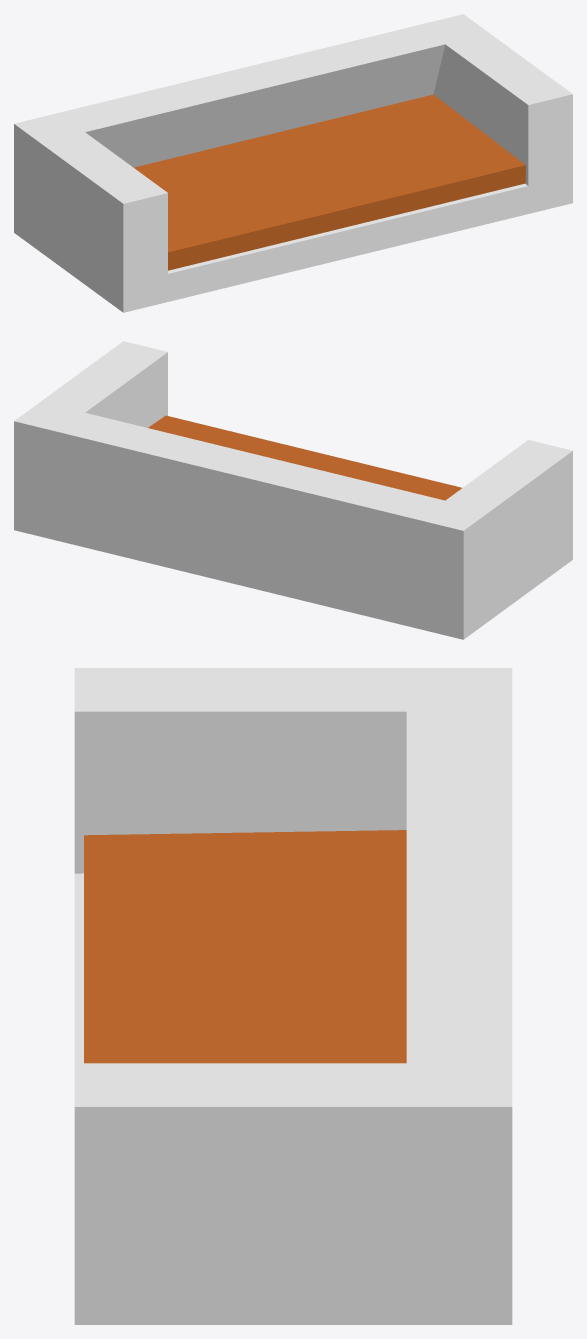
3 views of the same model, one above another, from view 1: azimuth 30°, elevation 25°; view 2: azimuth 150°, elevation 25°; view 3: azimuth 270°, elevation 25° (orthographic). The views are drawn at different scales.
Visible parts, largest first — view 1: BarCouch.016; view 2: BarCouch.016; view 3: BarCouch.016.
Boxes of the visible parts, x1,y1,x2,y2 form: BarCouch.016: (14, 14, 572, 312); BarCouch.016: (14, 341, 572, 639); BarCouch.016: (74, 668, 512, 1324).
Size of what is drawn, in the model's own units: 4.74 by 1.1 by 2.
1 material, 1 textured.
